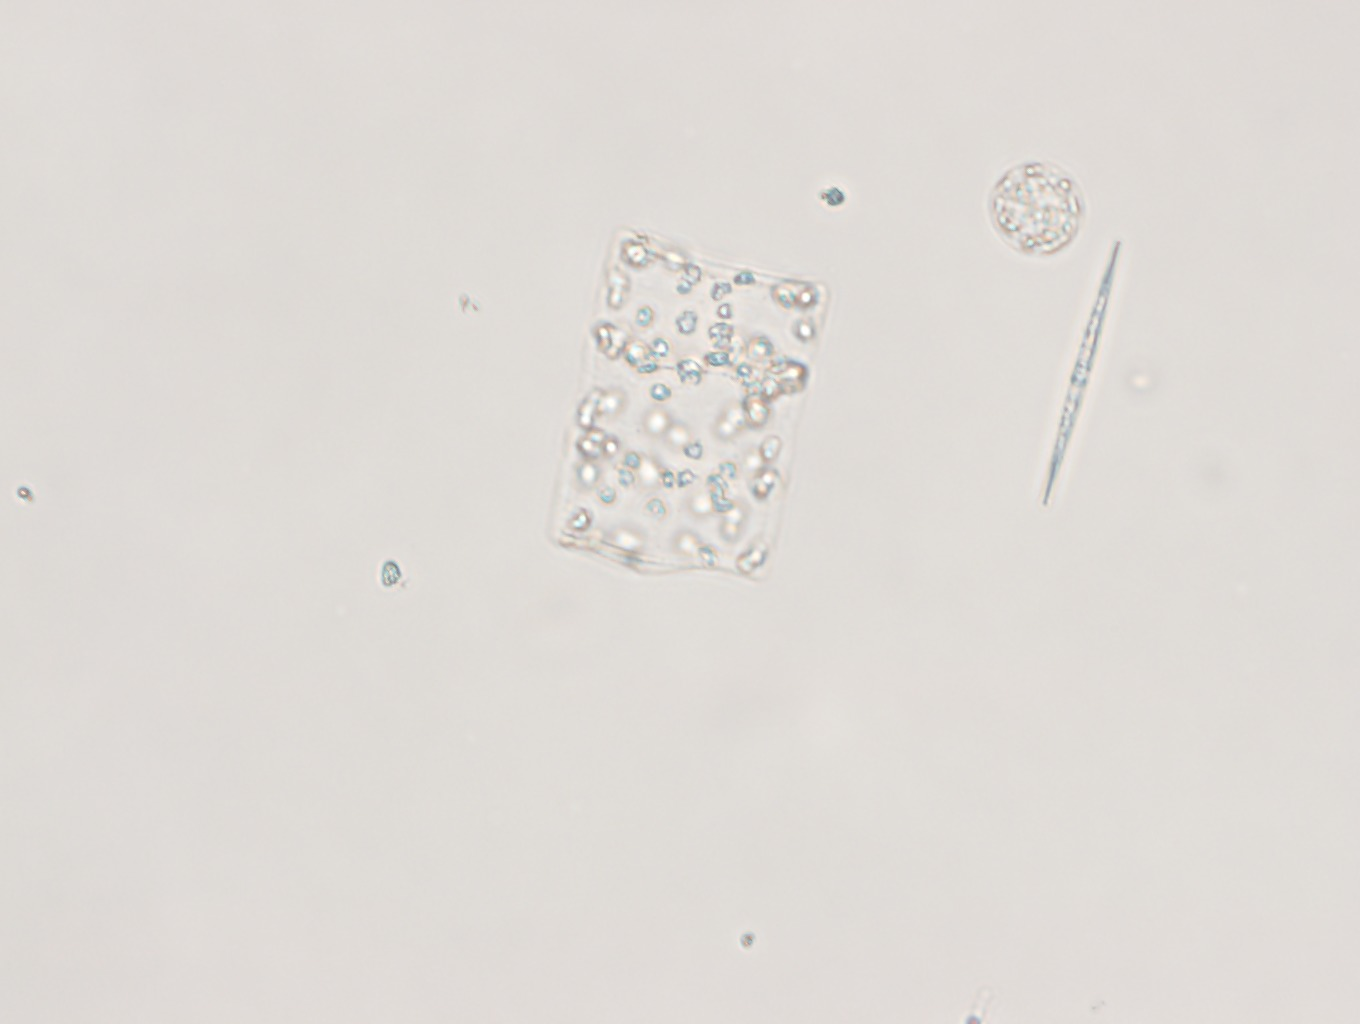guinardia flaccida: (541, 224, 832, 589)
navicula: (1043, 241, 1121, 504)
